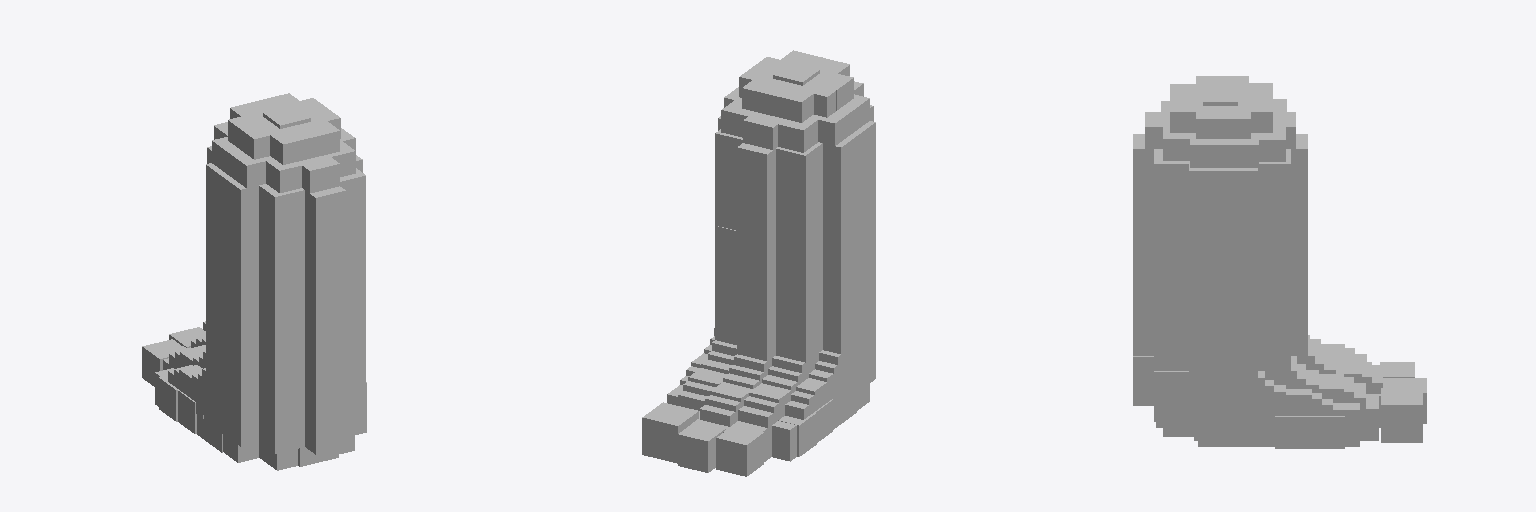
The model's file is pierna_Izq.obj.
3 renders of one model, left to right at view 1: azimuth 30°, elevation 25°; view 2: azimuth 150°, elevation 25°; view 3: azimuth 270°, elevation 25°, orthographic.
Visible parts, largest first — view 1: Box2403; view 2: Box2403; view 3: Box2403.
Boxes of the visible parts, box(x1,y1,x2,y2) form: Box2403: box(142, 93, 366, 470); Box2403: box(642, 50, 875, 476); Box2403: box(1133, 76, 1426, 448).
Bounding box in the file's own units: 0.4178 × 1 × 0.8256.